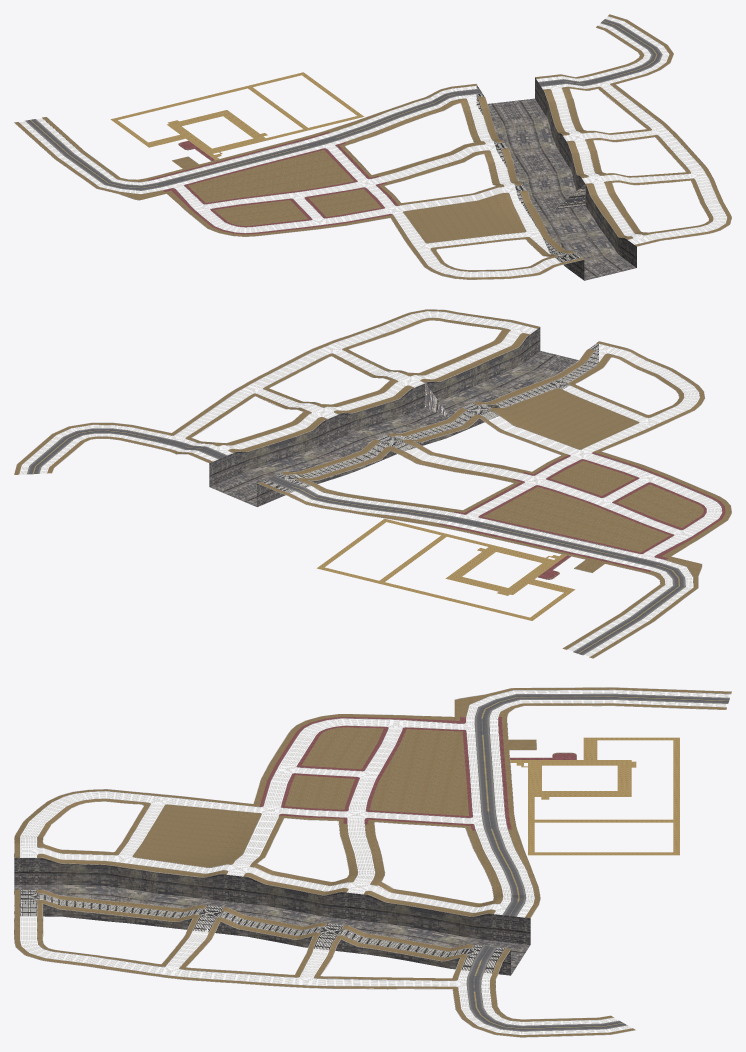
Rendered from CanaleFinaleCurve.fbx.
3 renders of one model, top to bottom at view 1: azimuth 30°, elevation 25°; view 2: azimuth 150°, elevation 25°; view 3: azimuth 270°, elevation 25°, orthographic. The views are drawn at different scales.
Visible parts, largest first — view 1: CanaleFinale.002; view 2: CanaleFinale.002; view 3: CanaleFinale.002.
Boxes of the visible parts, left/top/right/bottom form: CanaleFinale.002: left=14, top=14, right=731, bottom=280; CanaleFinale.002: left=14, top=309, right=731, bottom=658; CanaleFinale.002: left=14, top=687, right=731, bottom=1037.
Size of the model in its own units: 36070 by 1296 by 31201.
